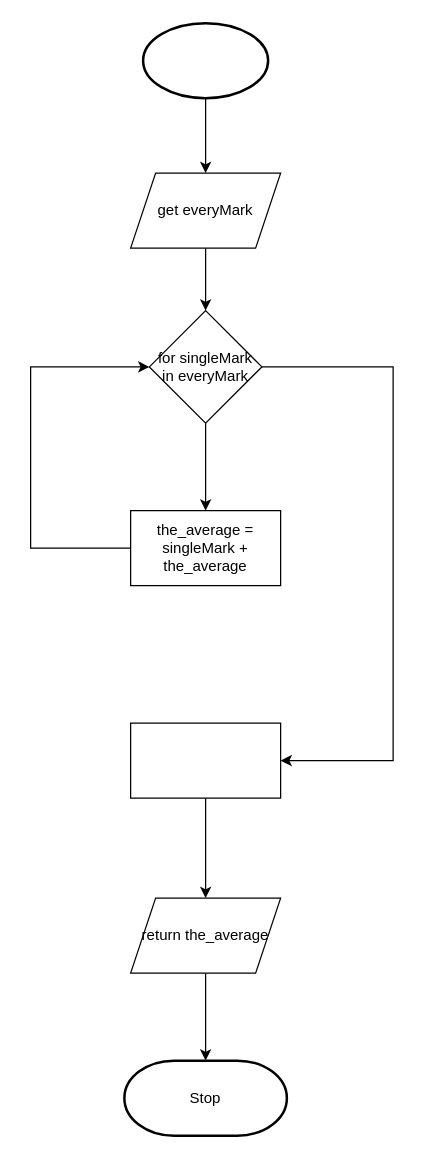
Some shapes in this 425 by 1158 pixel diagram are drawn without their labels. Each missing label, with the box of its shape:
Start: (141, 21, 269, 99)
the_average = the_average / len(everyMark): (129, 722, 281, 798)
